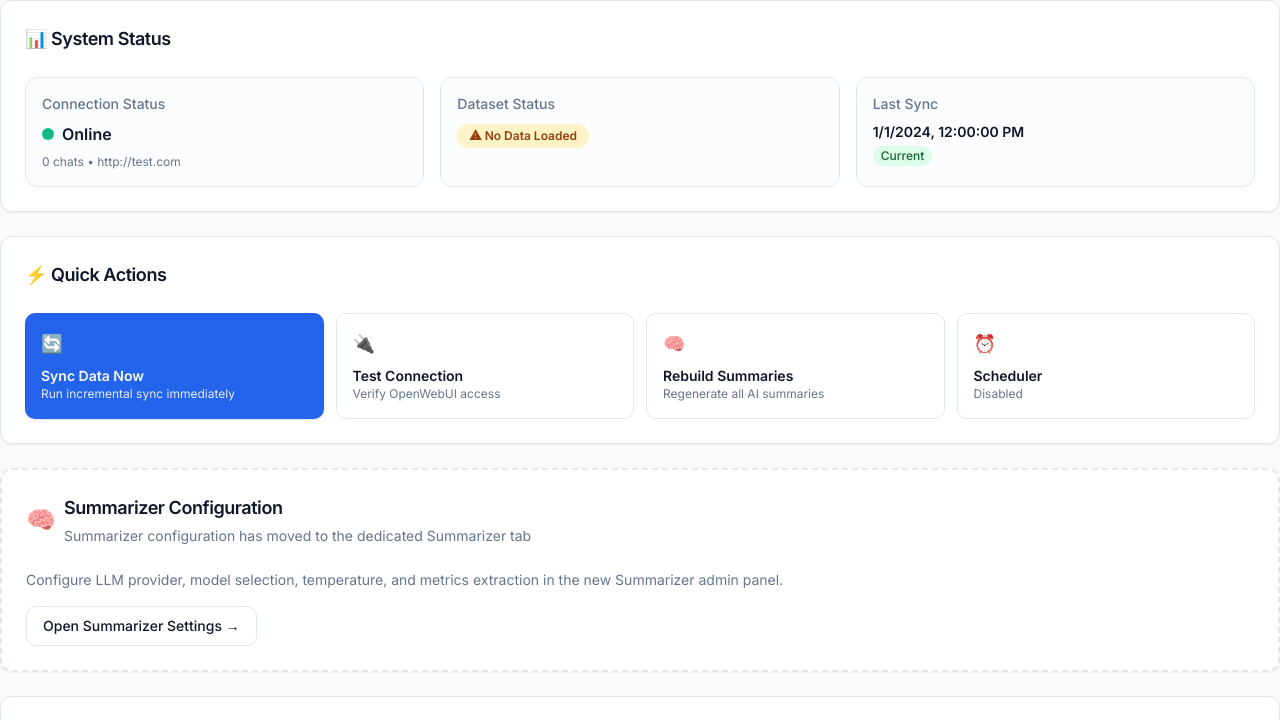
Test: ConnectionInfoPanel › Scheduler Drawer › should open scheduler drawer when Scheduler button is clicked
The width and height of the screenshot is (1280, 720).
Click the text "Scheduler": [1008, 376] box top-left (974, 366), bottom-right (1042, 386)
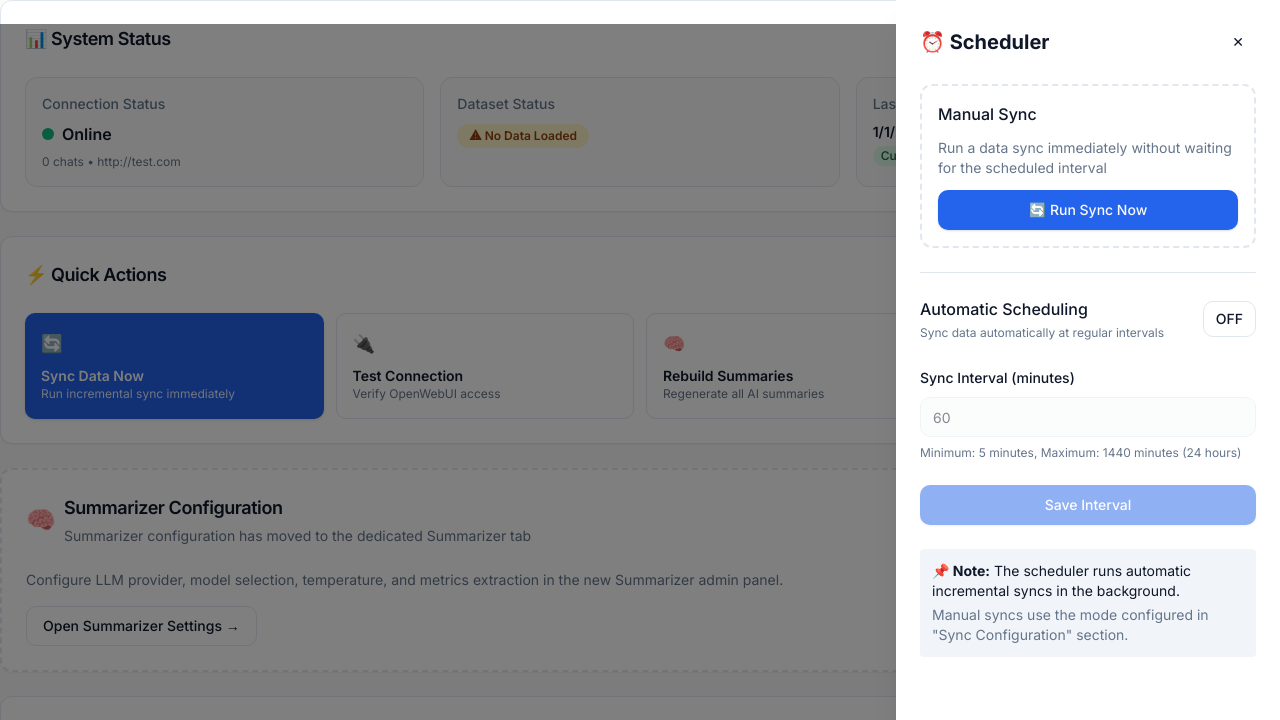
expect the text "Automatic Scheduling" is shown: met, box top-left (920, 299), bottom-right (1088, 319)
